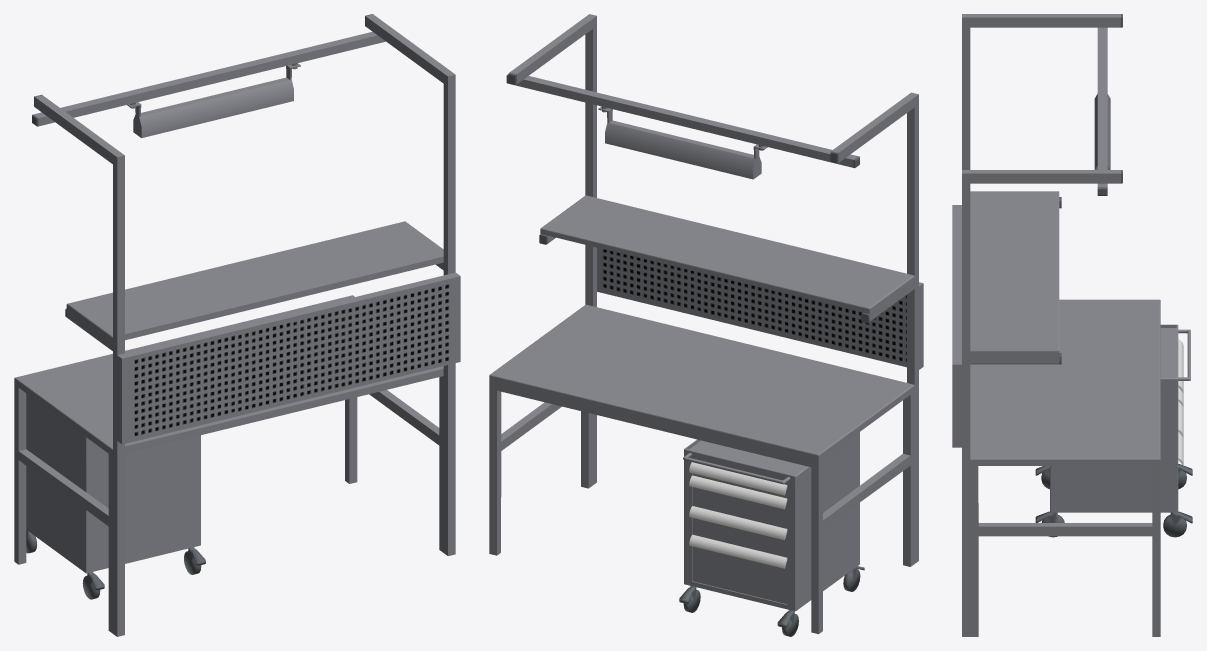
File: workbench.glb
3 views of the same model, side by side, from view 1: azimuth 30°, elevation 25°; view 2: azimuth 150°, elevation 25°; view 3: azimuth 270°, elevation 25° (orthographic). The views are drawn at different scales.
Visible parts, largest first — view 1: SM_Workbench_0, SM_Workbech_Box_3, SM_Workbench_Box_Wheels_4; view 2: SM_Workbench_0, SM_Workbech_Box_3, SM_Workbench_Box_Wheels_4; view 3: SM_Workbench_0, SM_Workbech_Box_3, SM_Workbench_Box_Wheels_4.
Boxes of the visible parts, <box> form: SM_Workbench_0: <box>14,14,460,636</box>; SM_Workbech_Box_3: <box>26,393,200,573</box>; SM_Workbench_Box_Wheels_4: <box>26,530,205,599</box>; SM_Workbench_0: <box>489,14,923,634</box>; SM_Workbech_Box_3: <box>683,432,859,611</box>; SM_Workbench_Box_Wheels_4: <box>679,566,864,636</box>; SM_Workbench_0: <box>952,14,1160,636</box>; SM_Workbech_Box_3: <box>1050,324,1190,512</box>; SM_Workbench_Box_Wheels_4: <box>1035,464,1192,537</box>.
Size of the model in its own units: 5.71 by 7.3 by 3.42.
Materials: 4 (1 with a texture image).
